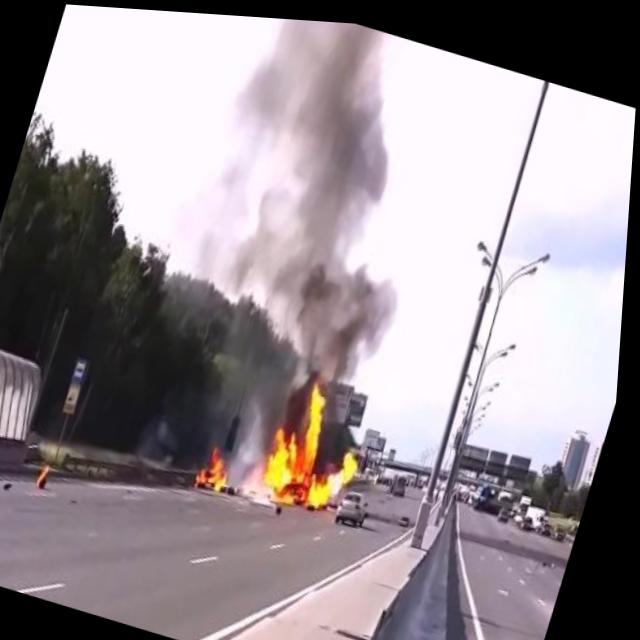fire: (191, 345, 388, 535), (40, 455, 57, 488)
